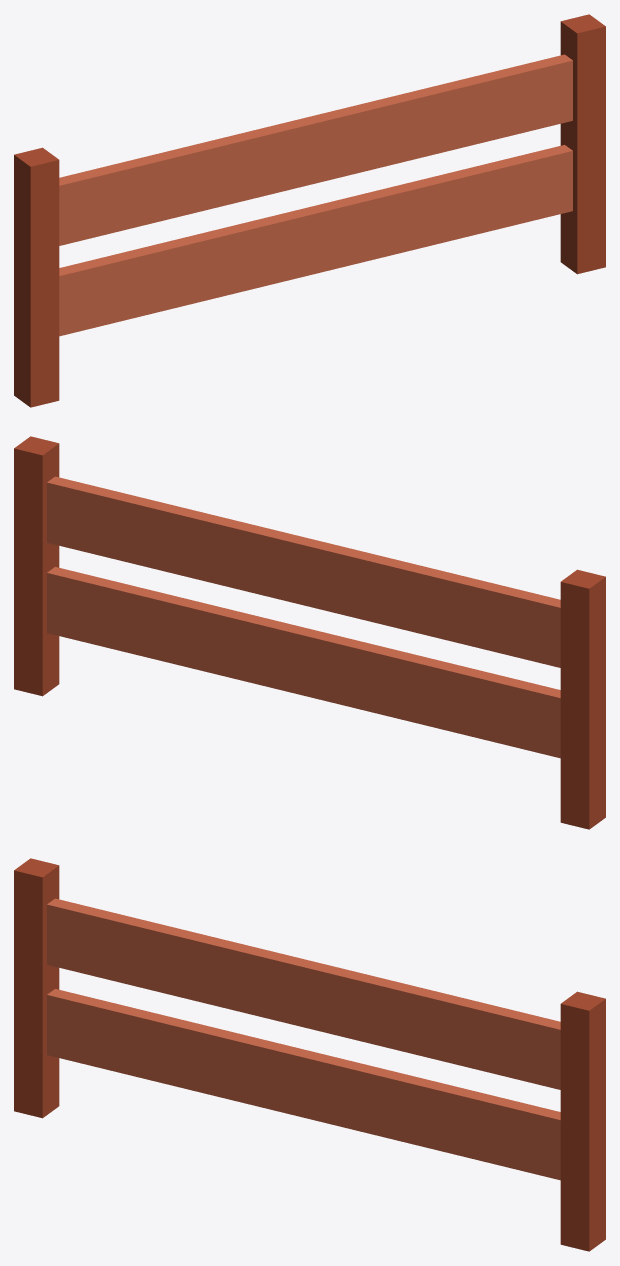
Rendered from Fence.fbx.
3 renders of one model, top to bottom at view 1: azimuth 30°, elevation 25°; view 2: azimuth 150°, elevation 25°; view 3: azimuth 330°, elevation 25°, orthographic.
Visible parts, largest first — view 1: mergedBlocks; view 2: mergedBlocks; view 3: mergedBlocks.
Boxes of the visible parts, x1,y1,x2,y2 form: mergedBlocks: (14, 14, 605, 407); mergedBlocks: (14, 436, 605, 829); mergedBlocks: (14, 858, 605, 1251).
Size of the model in its own units: 10 by 4 by 0.5.
